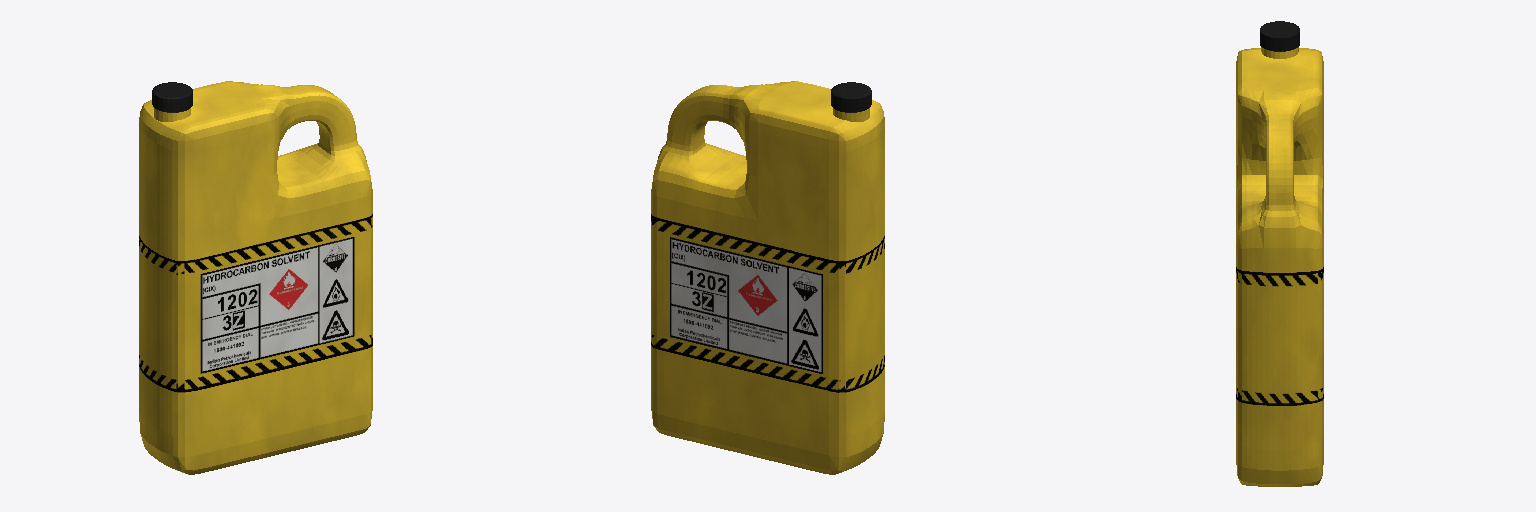
3 renders of one model, left to right at view 1: azimuth 30°, elevation 25°; view 2: azimuth 150°, elevation 25°; view 3: azimuth 270°, elevation 25°, orthographic.
Size of the model in its own units: 0.2478 by 0.4192 by 0.0901.
Materials: 1 (1 with a texture image).